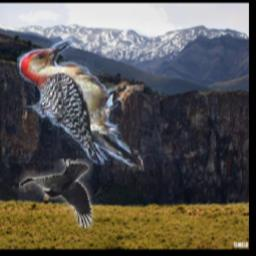Crow: (19, 159, 93, 228)
Woodpecker: (17, 39, 144, 171)
